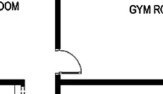door: (46, 46, 92, 77)
